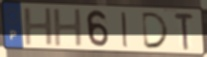6: (85, 9, 110, 49)
D: (141, 11, 171, 50)
H: (22, 7, 56, 47), (52, 7, 85, 48)
I: (120, 11, 131, 49)
T: (173, 11, 196, 52)
